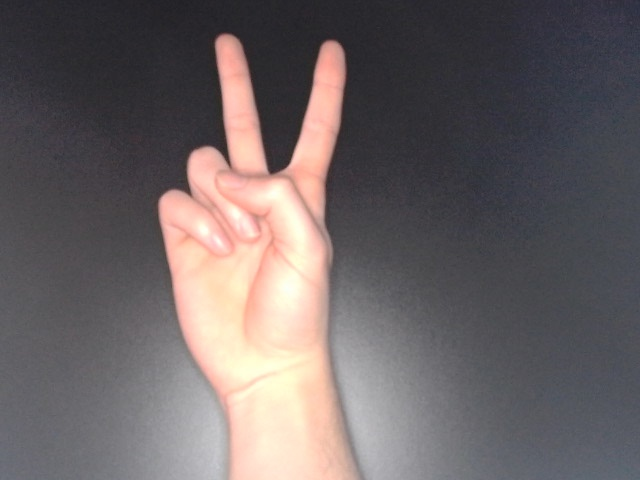v: (150, 29, 353, 405)
